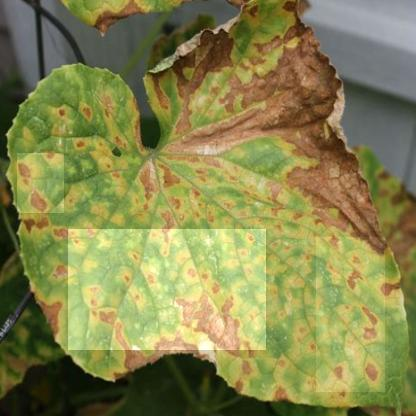black-spot: (69, 229, 266, 350), (316, 237, 385, 392), (17, 154, 64, 214)
